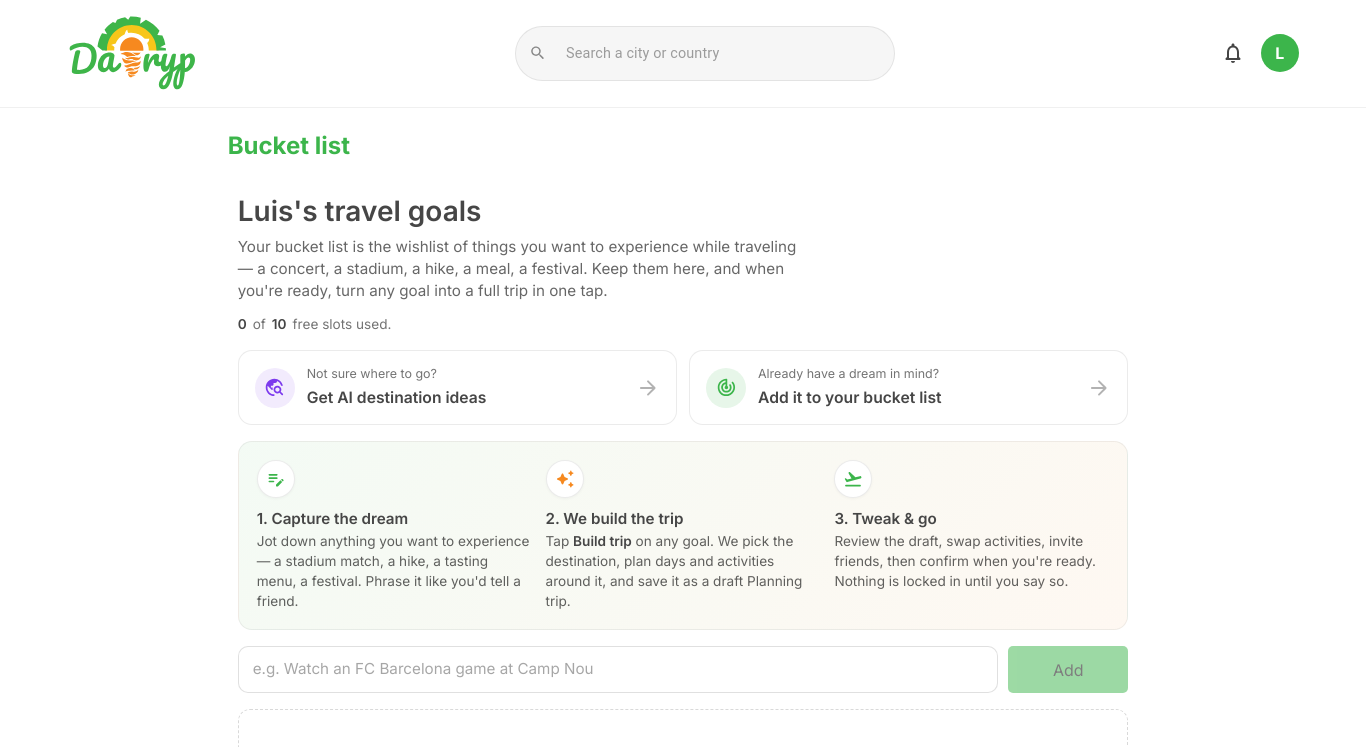
Test: BucketList › surfaces a moderation-blocked add error
Type "bad goal" into the field with placeholder "e.g. Watch an FC Barcelona game at Camp Nou".
click(618, 670); type("bad goal")  # box [238,646,998,693]
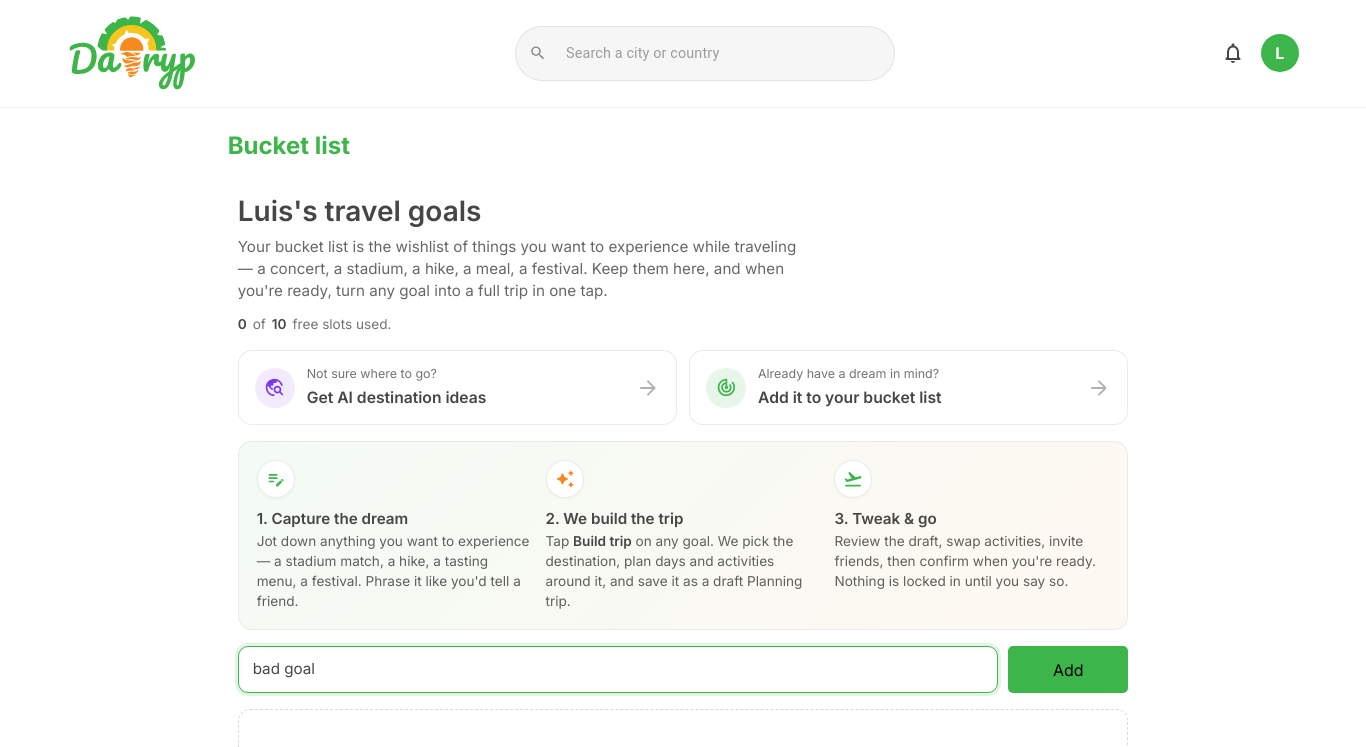
Click the button "Add".
click(1068, 670)  # box [1008,646,1128,693]
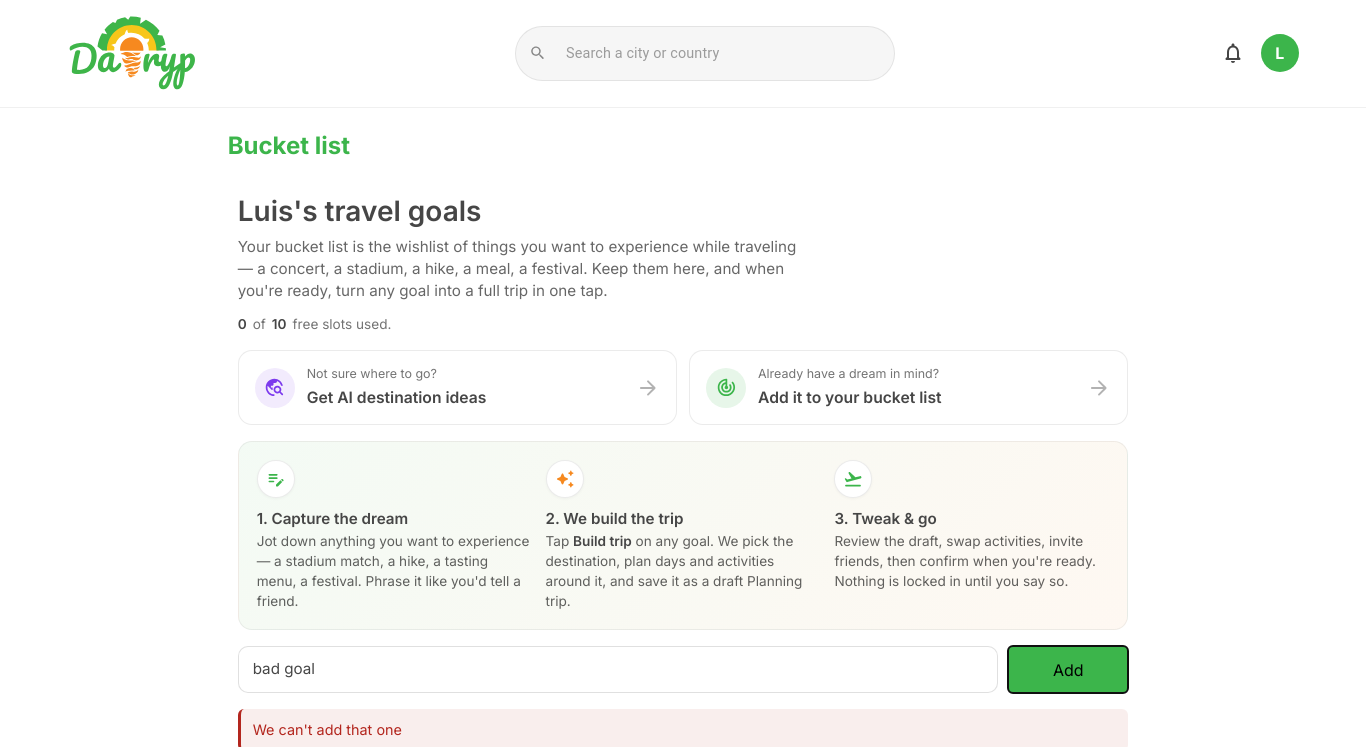
Expected: the message shows "can't add that one", [253,721,402,738]
